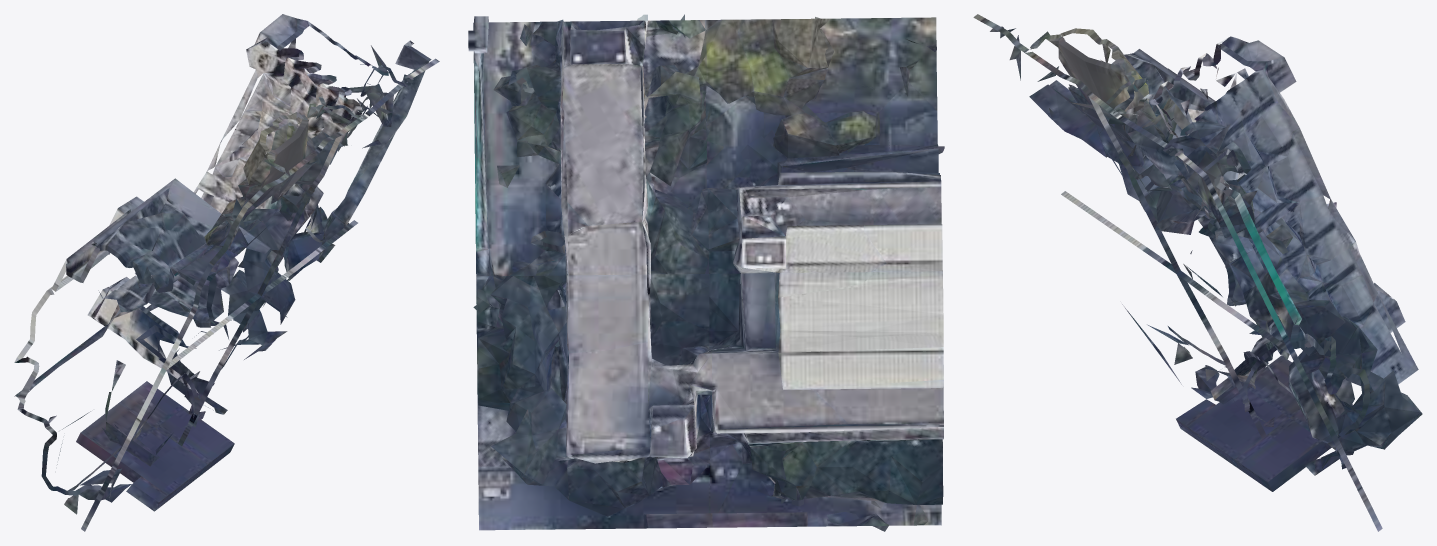
3 renders of one model, left to right at view 1: azimuth 30°, elevation 25°; view 2: azimuth 150°, elevation 25°; view 3: azimuth 270°, elevation 25°, orthographic. The views are drawn at different scales.
Bounding box in the file's own units: 83.38 × 80.53 × 70.41.
2 materials, 2 textured.
